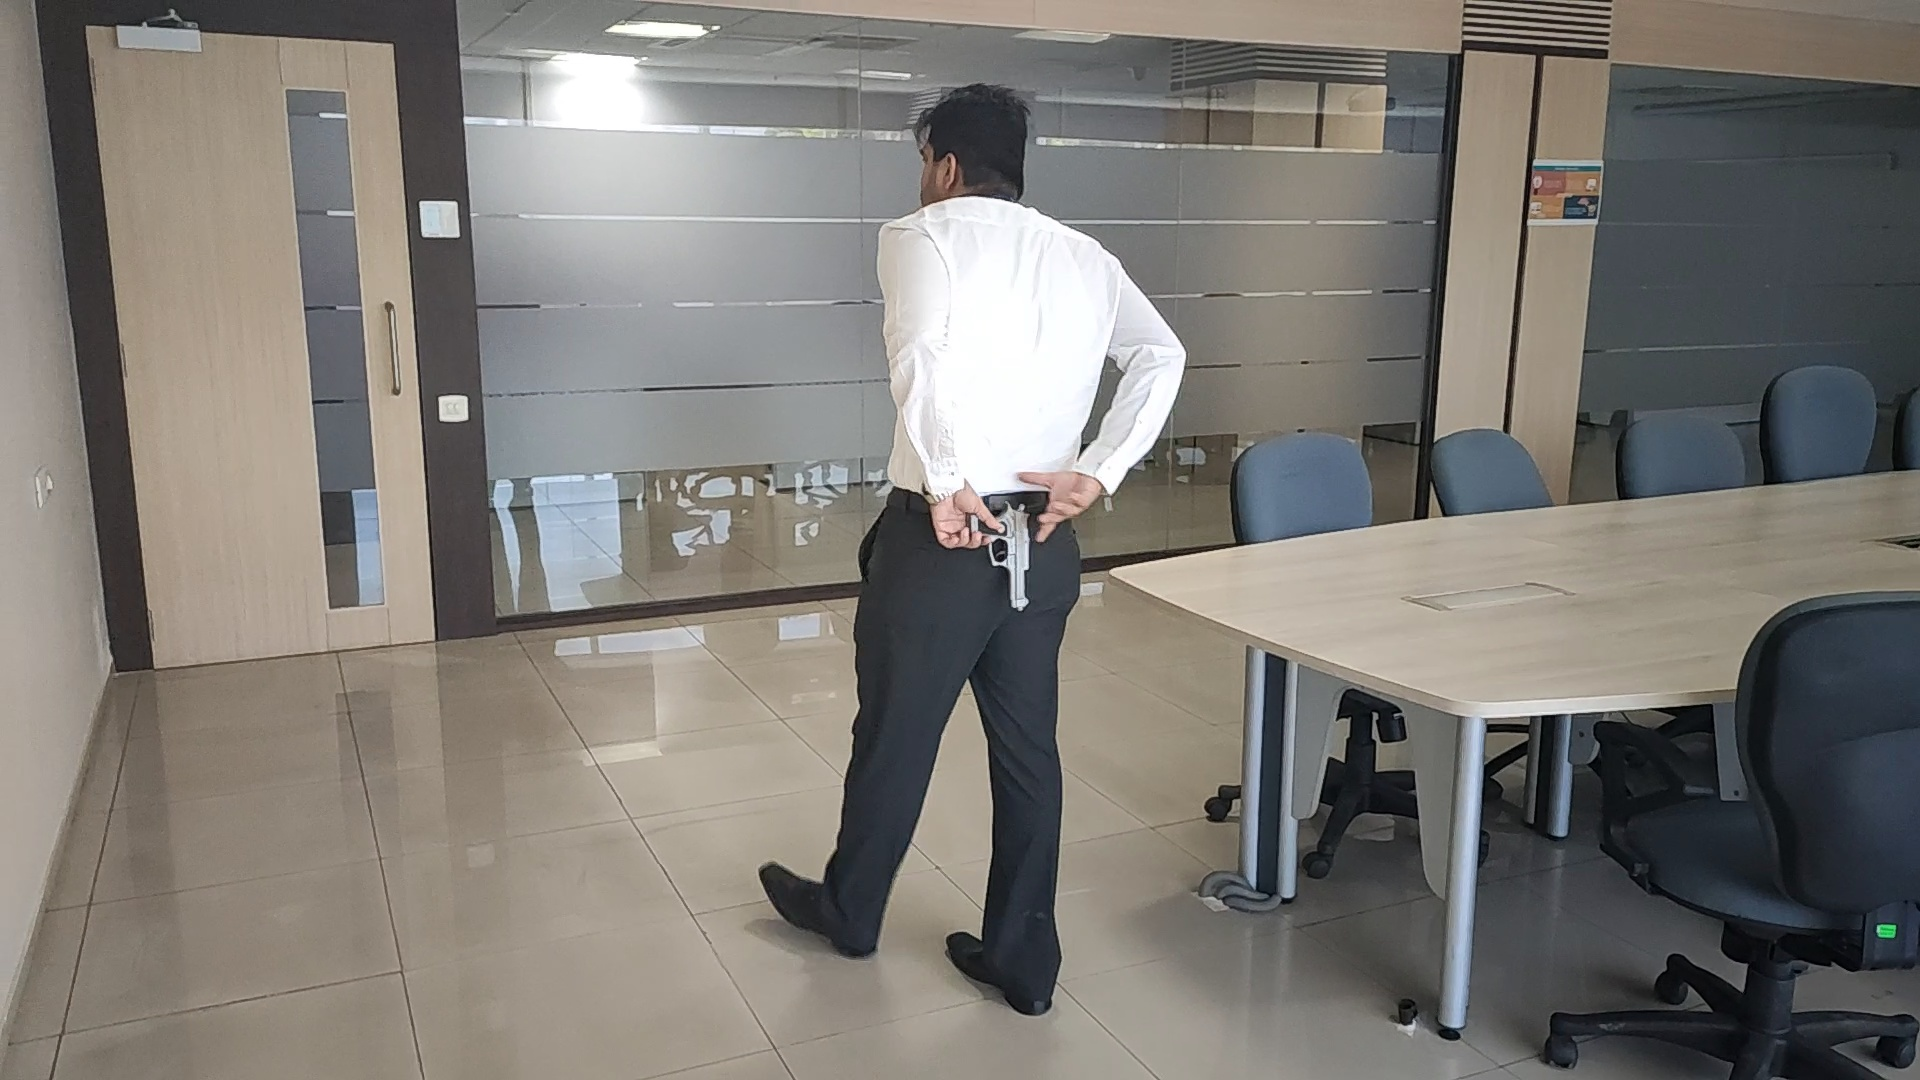gun: (967, 500, 1033, 612)
